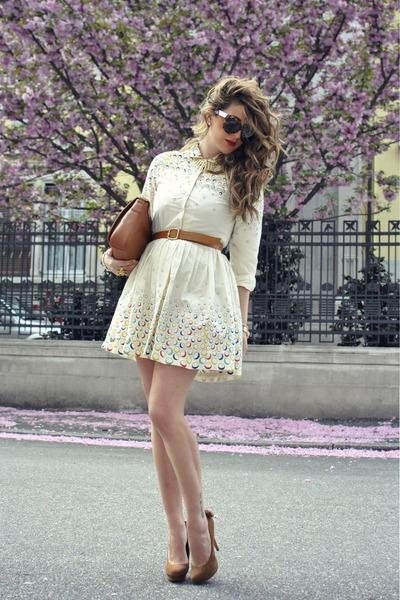bag: (108, 180, 155, 261)
dress: (101, 143, 264, 371)
shoe: (153, 551, 217, 586)
sunglass: (223, 115, 248, 146)
